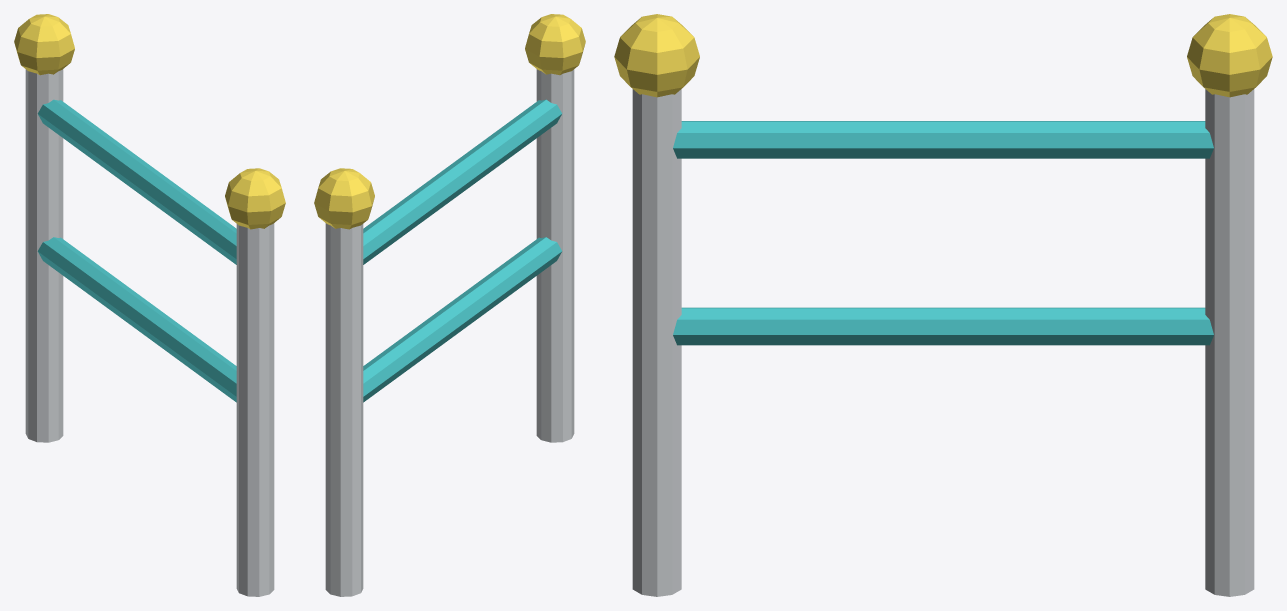
File: theme-park-rides-and-coasters-theme-park-rides-and-coa-d7066e93__28666.glb
3 views of the same model, side by side, from view 1: azimuth 30°, elevation 25°; view 2: azimuth 150°, elevation 25°; view 3: azimuth 270°, elevation 25° (orthographic). The views are drawn at different scales.
Visible parts, largest first — view 1: theme-park-rides-and-coasters-queue-rail-short; view 2: theme-park-rides-and-coasters-queue-rail-short; view 3: theme-park-rides-and-coasters-queue-rail-short.
Part boxes in pixels (box(x1,y1,x2,y2)): theme-park-rides-and-coasters-queue-rail-short: box(14, 14, 285, 596); theme-park-rides-and-coasters-queue-rail-short: box(314, 14, 585, 596); theme-park-rides-and-coasters-queue-rail-short: box(614, 14, 1272, 596).
Bounding box in the file's own units: 0.1499 × 1.09 × 1.15.
